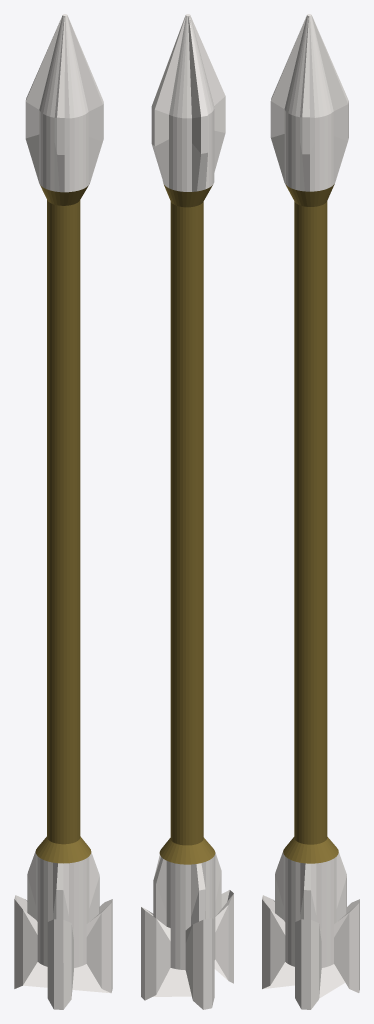
The model's file is arrow.fbx.
3 renders of one model, left to right at view 1: azimuth 90°, elevation 25°; view 2: azimuth 210°, elevation 25°; view 3: azimuth 270°, elevation 25°, orthographic.
Visible parts, largest first — view 1: Cylinder; view 2: Cylinder; view 3: Cylinder.
Boxes of the visible parts, x1,y1,x2,y2 form: Cylinder: (14, 14, 112, 1009); Cylinder: (141, 14, 233, 1009); Cylinder: (262, 14, 359, 1009).
Size of the model in its own units: 59.21 by 649 by 59.21.
